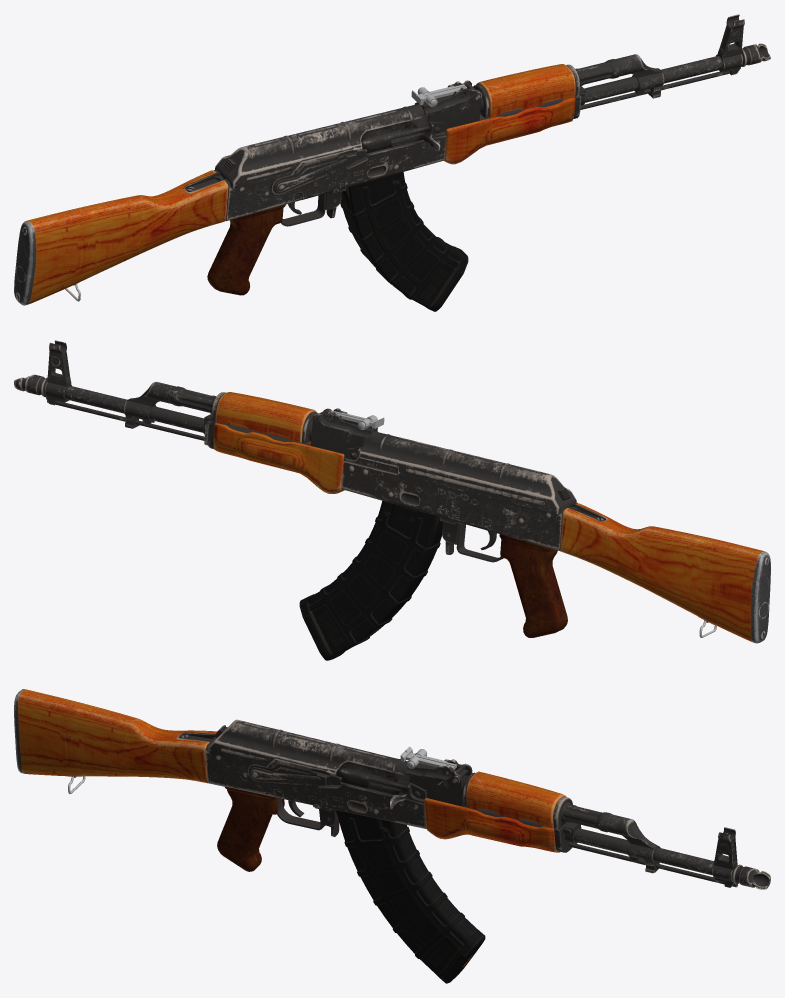
The model's file is AK-Tactical.glb.
3 views of the same model, one above another, from view 1: azimuth 30°, elevation 25°; view 2: azimuth 150°, elevation 25°; view 3: azimuth 330°, elevation 25° (orthographic).
Visible parts, largest first — view 1: AKM_body; view 2: AKM_body; view 3: AKM_body.
Boxes of the visible parts, x1,y1,x2,y2 form: AKM_body: (14,14,770,311); AKM_body: (14,340,770,660); AKM_body: (14,689,770,983).
Size of the model in its own units: 0.8953 by 0.2677 by 0.091.
3 materials, 3 textured.
